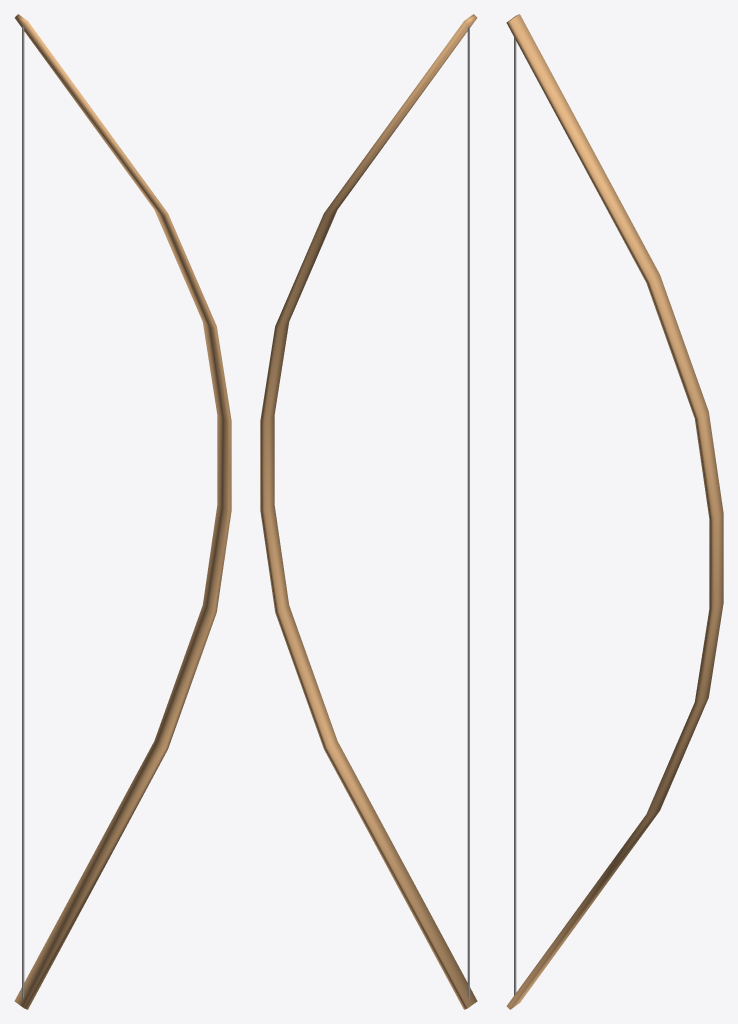
3 views of the same model, side by side, from view 1: azimuth 30°, elevation 25°; view 2: azimuth 150°, elevation 25°; view 3: azimuth 330°, elevation 25° (orthographic).
Visible parts, largest first — view 1: Plane; view 2: Plane; view 3: Plane.
Part boxes in pixels (left/top/right/bottom): Plane: left=14, top=14, right=231, bottom=1009; Plane: left=260, top=14, right=477, bottom=1009; Plane: left=506, top=14, right=723, bottom=1009.
Size of the model in its own units: 87.9 by 400 by 7.
